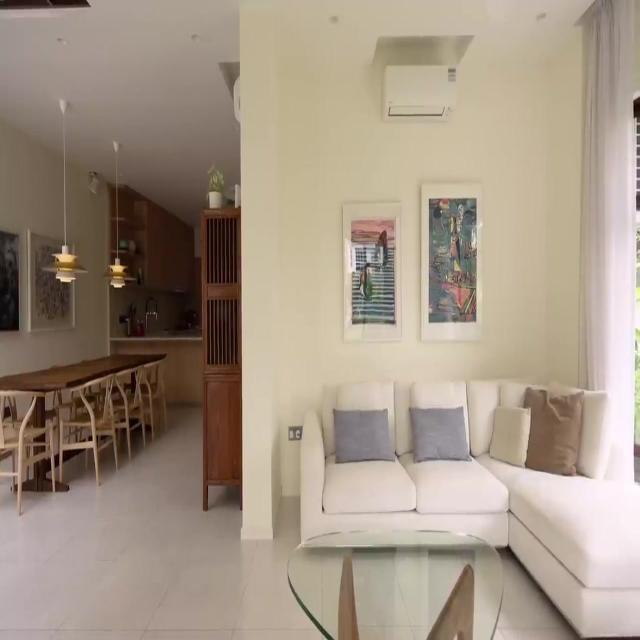obstacle: (300, 376, 640, 638), (0, 351, 167, 515), (287, 528, 504, 638), (201, 204, 241, 512)
